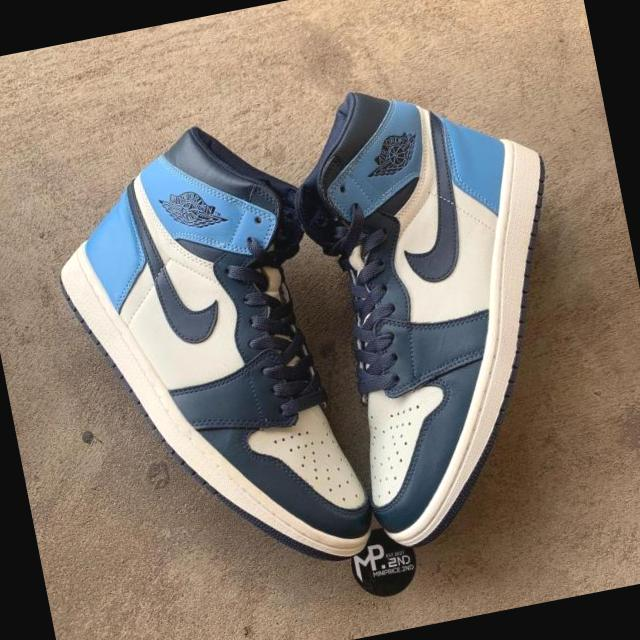nike_original_jordan: (34, 96, 389, 602), (286, 70, 614, 560)
